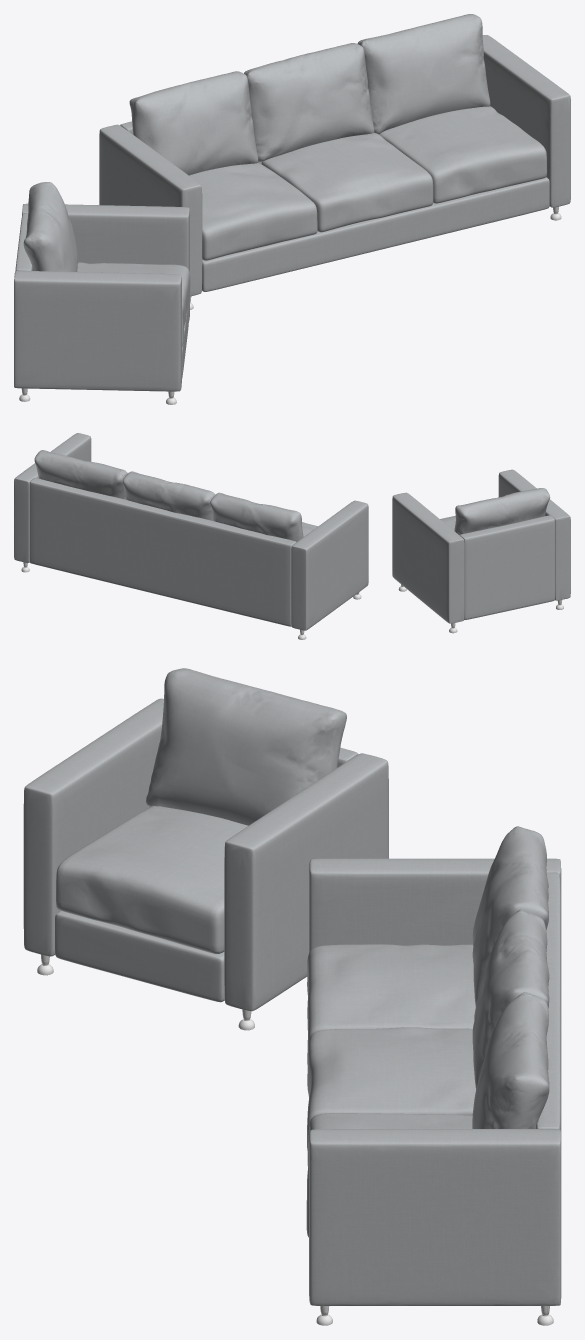
The model's file is optimized_sofa.glb.
3 renders of one model, top to bottom at view 1: azimuth 30°, elevation 25°; view 2: azimuth 150°, elevation 25°; view 3: azimuth 270°, elevation 25°, orthographic. The views are drawn at different scales.
Size of the model in its own units: 3.15 by 0.7846 by 1.6.
2 materials, 1 textured.
